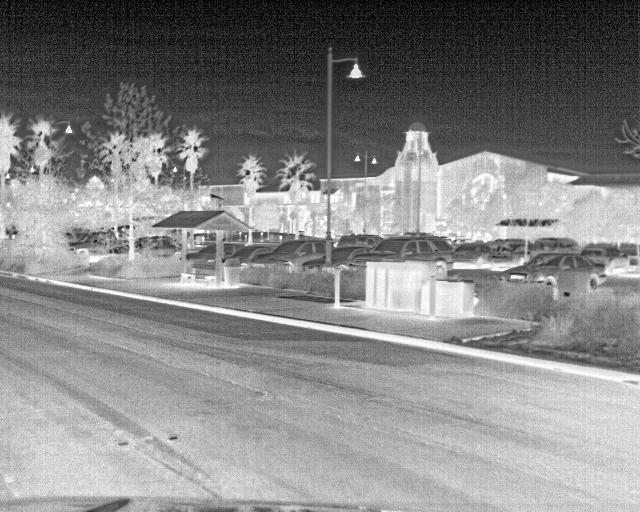car: (349, 238, 455, 277), (505, 253, 609, 292), (256, 234, 324, 268), (67, 230, 114, 262), (531, 237, 582, 259), (489, 236, 527, 265), (132, 236, 182, 258), (450, 241, 493, 265), (226, 245, 273, 265), (582, 242, 620, 266), (332, 245, 367, 269), (185, 245, 218, 261), (301, 255, 327, 270)
